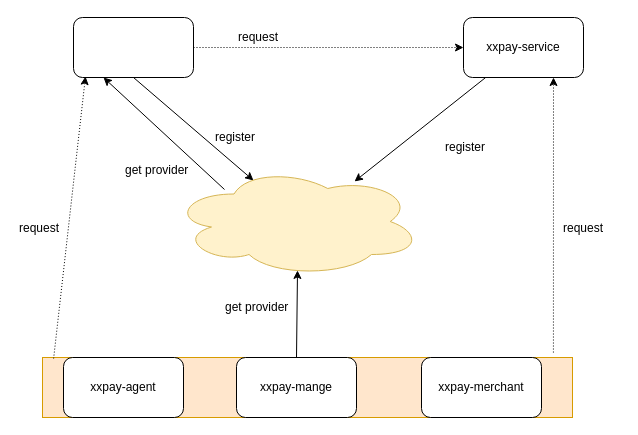
This 638x435 diagram has some shape labels left out. Each missing label, with the centre of its shape:
server register & provide （dubbo & zookeeper）: the point at 296,221
xxpay-pay: the point at 133,47
